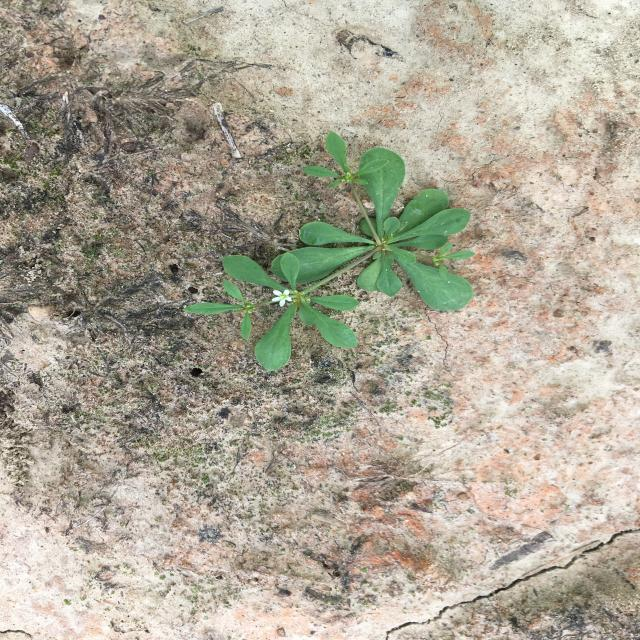Carpetweed: (183, 131, 477, 372)
